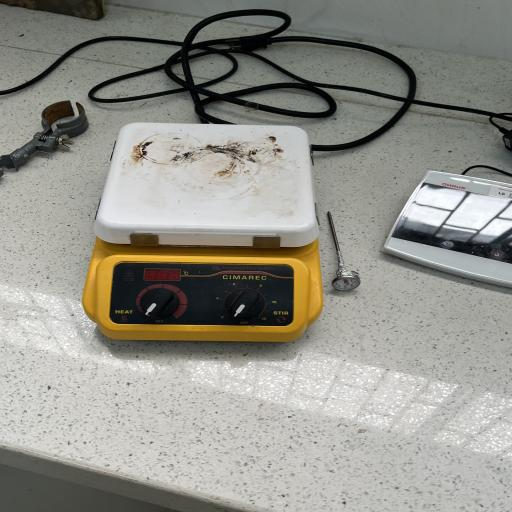Plancha_Agitacion_Cimarec: (77, 113, 365, 357)
